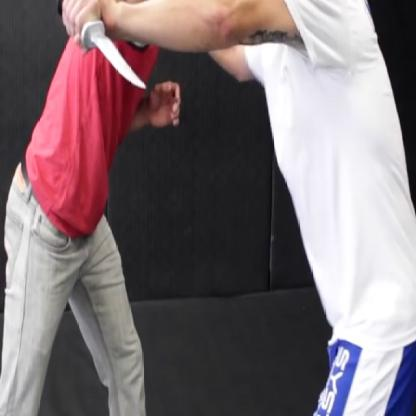knife: (53, 0, 154, 105)
